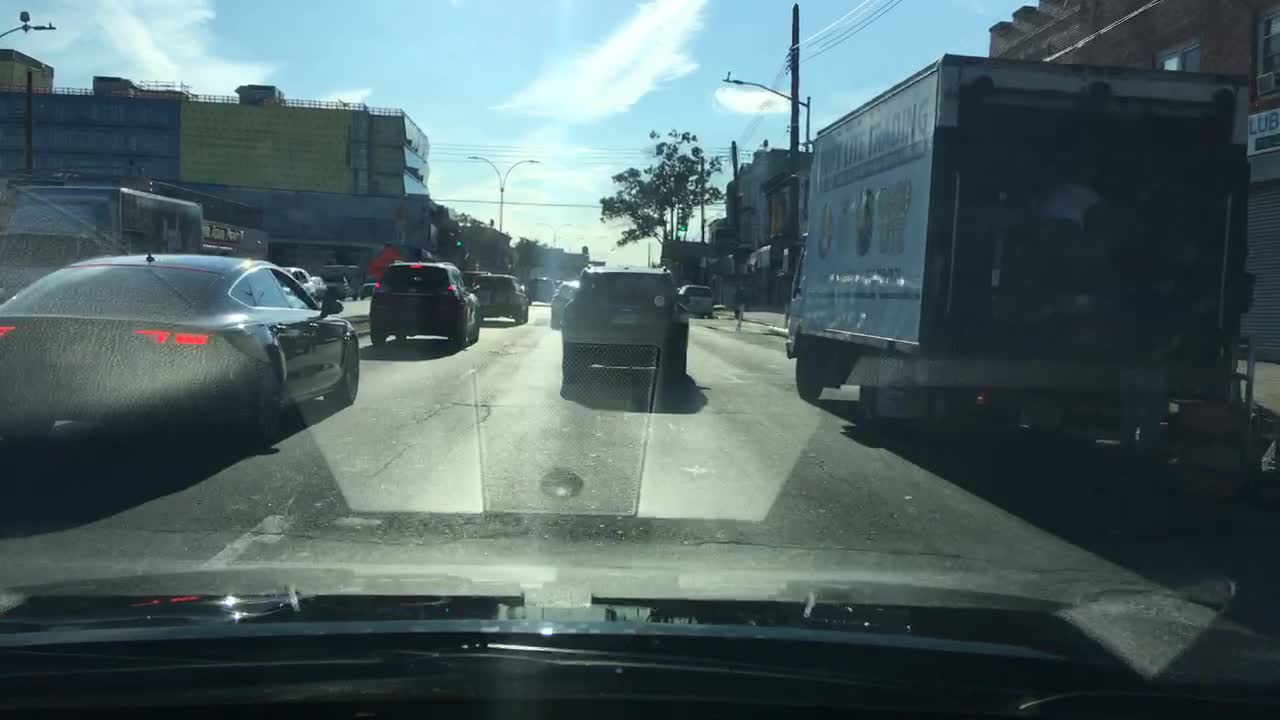car: (1, 250, 364, 461), (559, 261, 691, 383), (366, 258, 481, 349), (468, 272, 532, 326), (316, 261, 364, 303), (277, 264, 319, 302), (549, 277, 578, 331), (678, 281, 716, 318), (522, 275, 557, 307), (462, 269, 494, 298), (356, 275, 379, 301), (308, 274, 330, 301), (552, 277, 563, 291)
person: (1110, 265, 1190, 474), (1016, 161, 1106, 324)
traffic light: (453, 231, 464, 247), (680, 215, 687, 231), (676, 214, 682, 230)
truck: (779, 50, 1262, 456), (0, 178, 274, 306)
